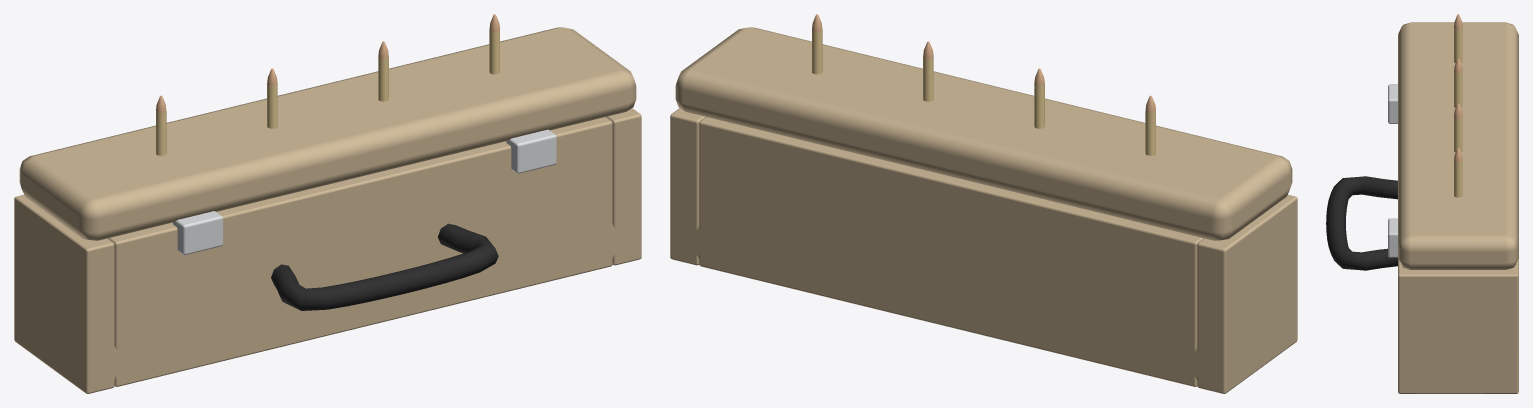
File: fps-weapon-set-and-firing-range-launcher-round-case-b2aca6bb__19480.glb
The picture shows the model from 3 angles, left to right: view 1: azimuth 30°, elevation 25°; view 2: azimuth 150°, elevation 25°; view 3: azimuth 270°, elevation 25°; orthographic projection. The views are drawn at different scales.
Parts seen in each view (by area): view 1: launcher-round-case, lid; view 2: launcher-round-case, lid; view 3: lid, launcher-round-case.
Boxes of the visible parts, x1=… form: launcher-round-case: x1=14, y1=14, x2=641, y2=393; lid: x1=19, y1=27, x2=636, y2=240; launcher-round-case: x1=670, y1=14, x2=1297, y2=393; lid: x1=675, y1=27, x2=1292, y2=240; lid: x1=1398, y1=22, x2=1518, y2=269; launcher-round-case: x1=1326, y1=14, x2=1518, y2=393.
Size of the model in its own units: 0.48 by 0.203 by 0.1752.
